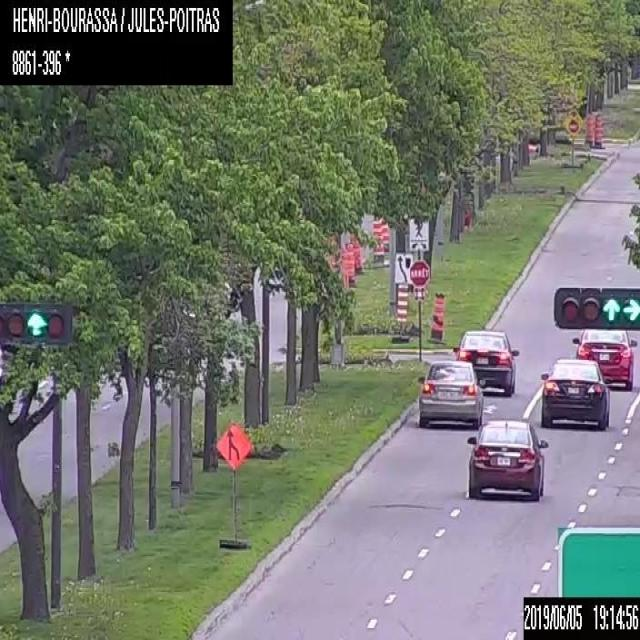construction: (214, 422, 252, 548), (428, 292, 444, 343), (369, 214, 384, 266), (341, 244, 356, 288), (349, 232, 363, 273), (583, 112, 593, 148), (593, 113, 603, 148), (380, 215, 389, 251)
vehicle: (466, 420, 548, 501), (538, 358, 611, 430), (417, 360, 486, 427), (452, 329, 518, 396), (571, 327, 637, 390)
